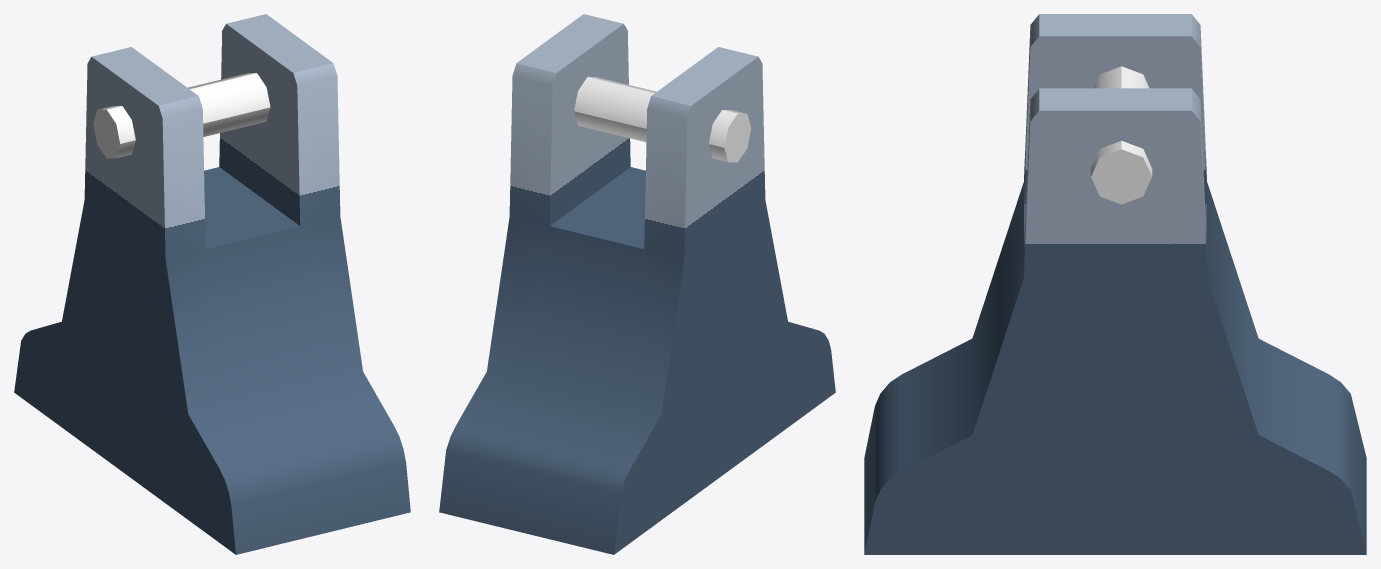
The model's file is Barrera_Base.fbx.
3 renders of one model, left to right at view 1: azimuth 30°, elevation 25°; view 2: azimuth 150°, elevation 25°; view 3: azimuth 270°, elevation 25°, orthographic. The views are drawn at different scales.
Parts seen in each view (by area): view 1: Barrera_Base; view 2: Barrera_Base; view 3: Barrera_Base.
Boxes of the visible parts, bbox=[...] form: Barrera_Base: bbox=[14, 14, 410, 554]; Barrera_Base: bbox=[439, 14, 835, 554]; Barrera_Base: bbox=[864, 14, 1366, 554].
Size of the model in its own units: 107 by 195 by 200.
